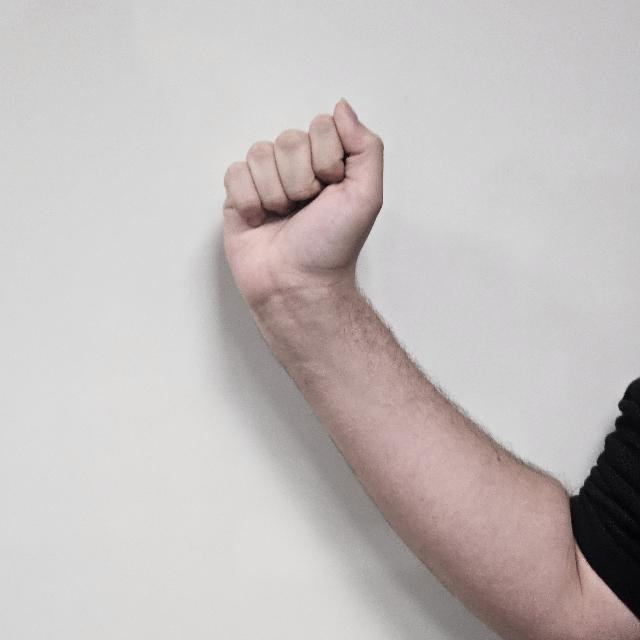Quadro: (222, 101, 386, 301)
